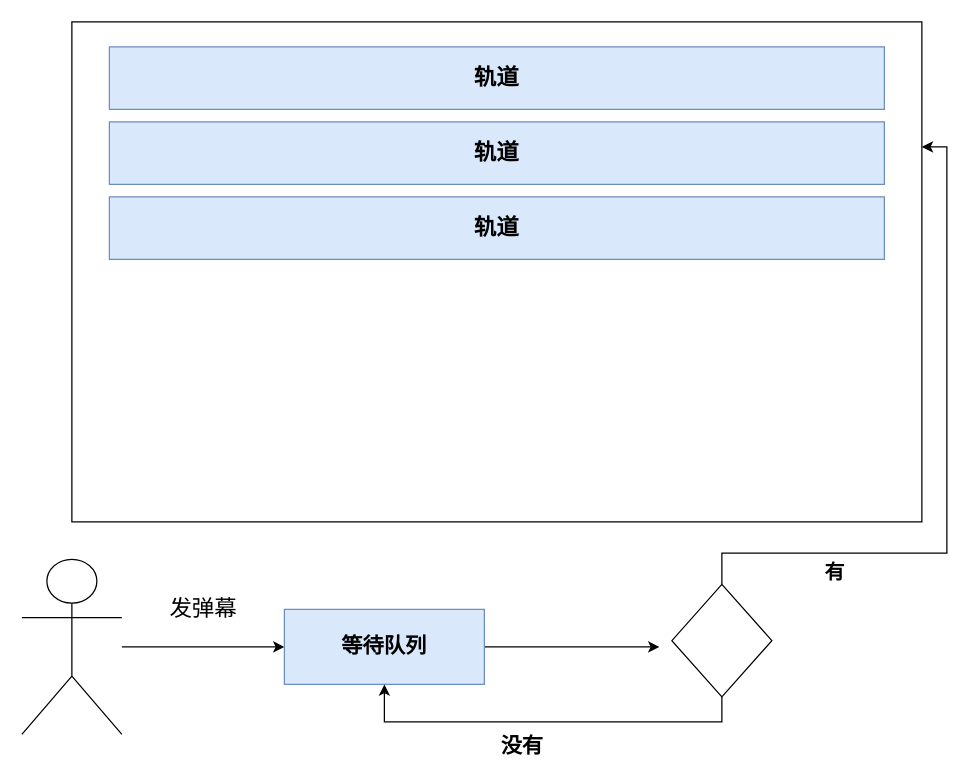
Some shapes in this 979 by 783 pixel diagram are drawn without their labels. The box of each missing label's shape, as (x1, y1, x2, y2) in pixels:
有空位吗: (671, 583, 772, 697)
用户: (21, 558, 122, 734)
